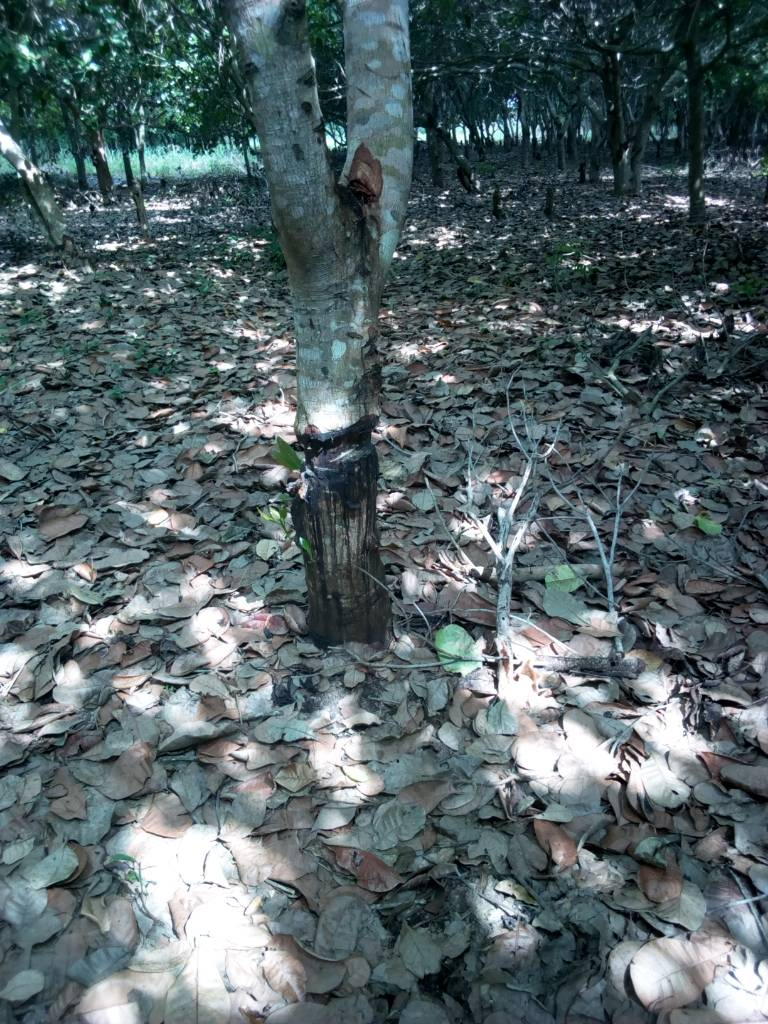Analepse trifasciata: (282, 405, 399, 477)
